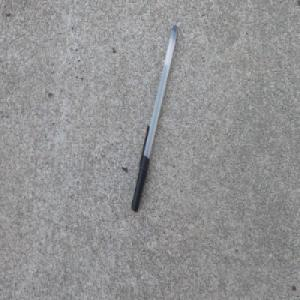Pen: (131, 22, 179, 213)
